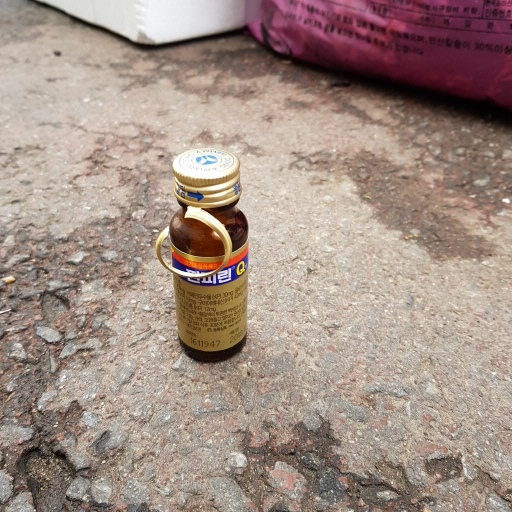Glass_3: (149, 141, 256, 371)
